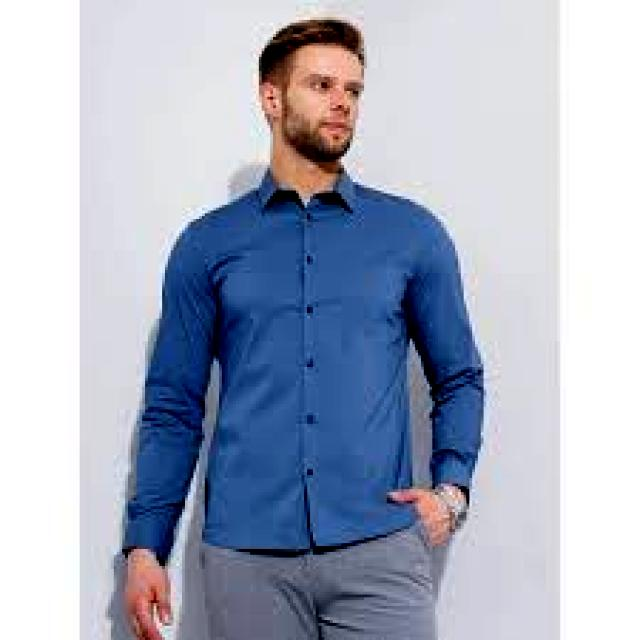face: (274, 46, 364, 162)
lower-wear: (200, 518, 438, 639)
top-wear: (123, 168, 483, 563)
